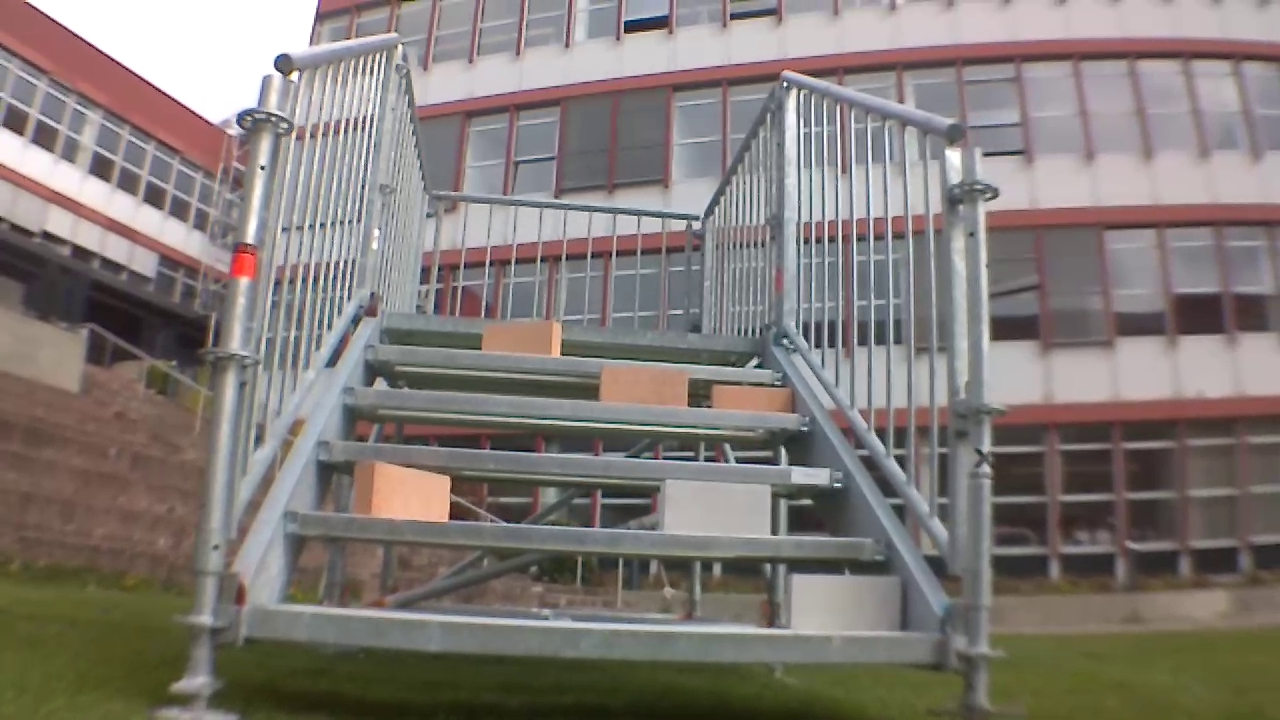brick: (784, 572, 902, 632), (658, 481, 769, 537), (352, 460, 450, 521), (601, 366, 688, 405), (482, 321, 561, 355), (712, 386, 790, 411)
edge: (245, 606, 938, 665), (282, 510, 885, 560), (317, 437, 844, 490), (341, 385, 811, 433), (363, 345, 782, 383), (386, 311, 757, 352)
stairs: (159, 32, 1010, 720)
steps: (237, 304, 941, 675)
